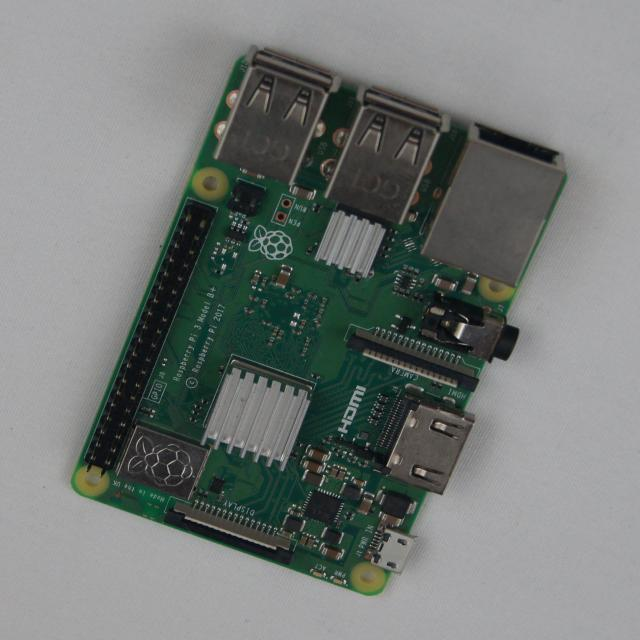Raspberry Pi 3 B-: (72, 48, 567, 595)
